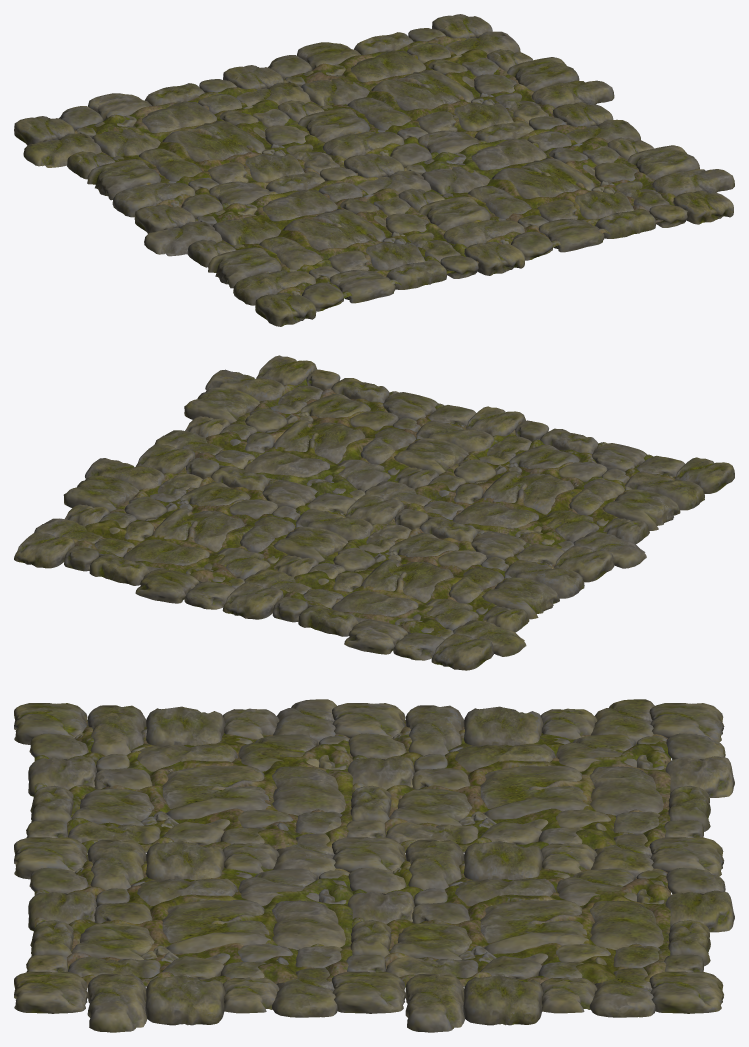
3 renders of one model, top to bottom at view 1: azimuth 30°, elevation 25°; view 2: azimuth 150°, elevation 25°; view 3: azimuth 270°, elevation 25°, orthographic. The views are drawn at different scales.
Visible parts, largest first — view 1: ground; view 2: ground; view 3: ground.
Boxes of the visible parts, box(x1,y1,x2,y2) form: ground: box(14, 14, 734, 326); ground: box(14, 355, 734, 670); ground: box(14, 699, 734, 1032).
Size of the model in its own units: 19.42 by 0.5907 by 18.15.
1 material, 1 textured.
